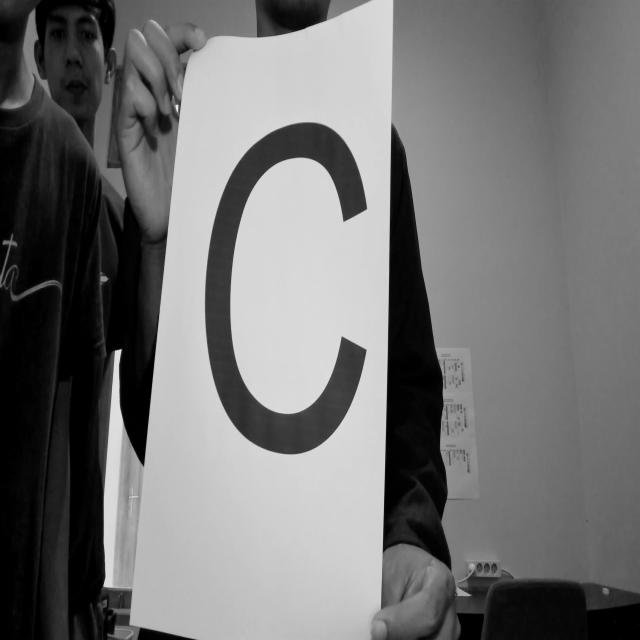c: (193, 105, 378, 465)
